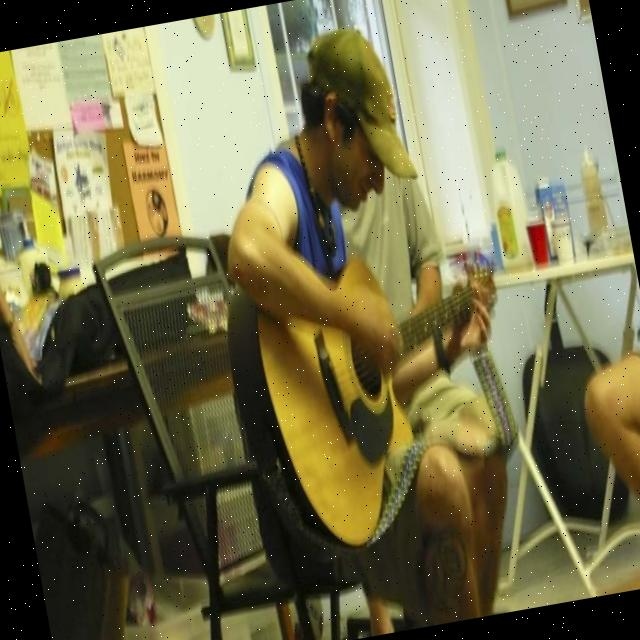guitar: (216, 232, 541, 562)
